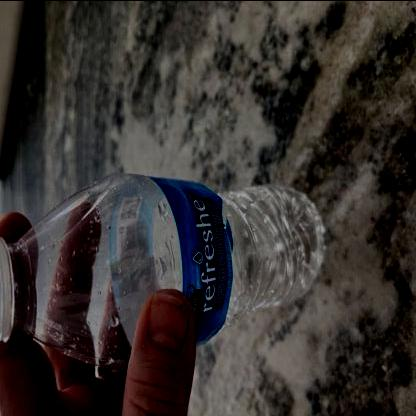bottle: (0, 168, 333, 364)
